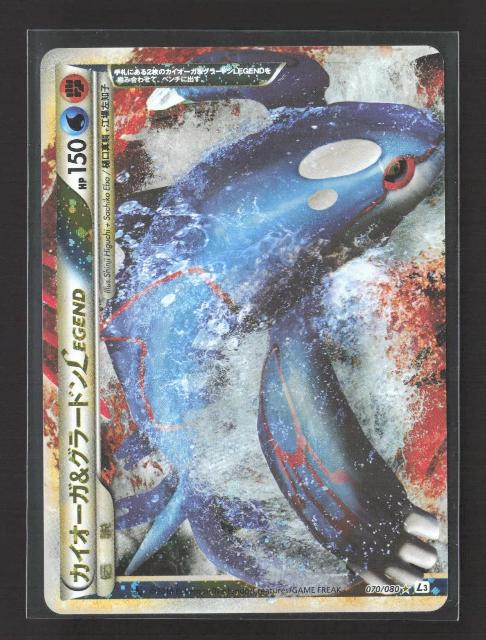Card: (36, 43, 454, 619)
Name: (59, 275, 97, 591)
